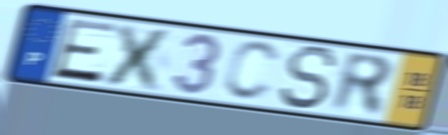3: (170, 31, 223, 98)
C: (220, 39, 283, 104)
E: (48, 17, 121, 86)
R: (329, 49, 396, 119)
S: (277, 43, 340, 112)
X: (100, 21, 179, 94)
